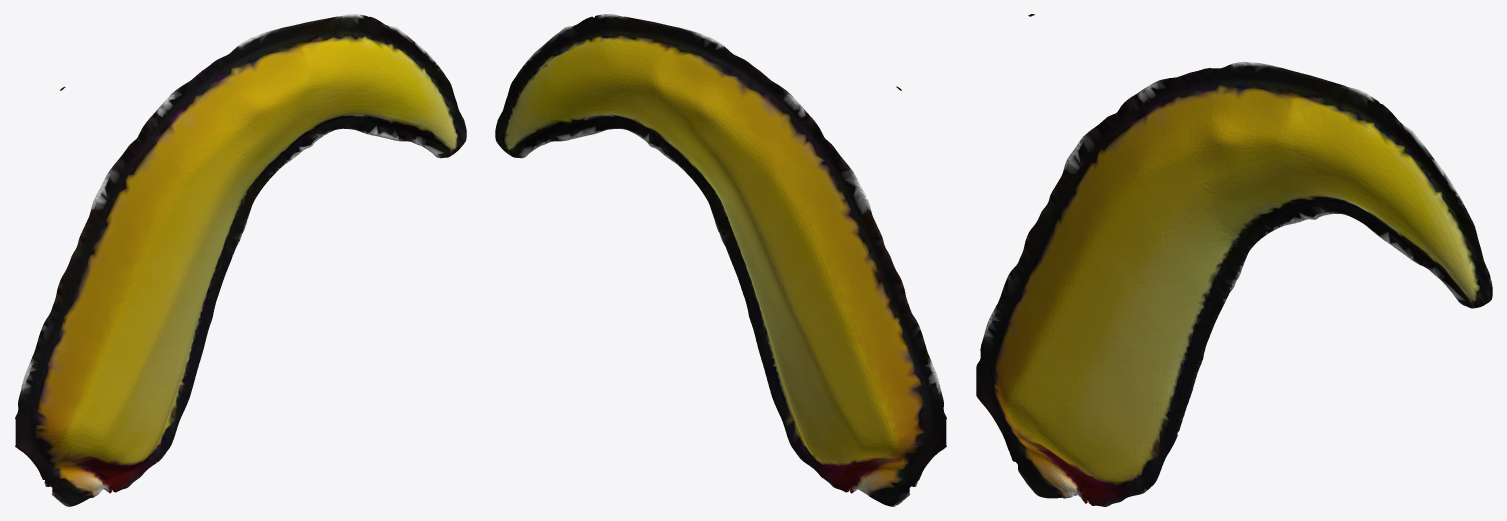
Rendered from demonhorn.glb.
3 views of the same model, side by side, from view 1: azimuth 30°, elevation 25°; view 2: azimuth 150°, elevation 25°; view 3: azimuth 330°, elevation 25° (orthographic). The views are drawn at different scales.
Parts seen in each view (by area): view 1: geometry_0; view 2: geometry_0; view 3: geometry_0.
Part boxes in pixels (x1,y1,x2,y2): geometry_0: [15, 14, 466, 506]; geometry_0: [495, 14, 946, 506]; geometry_0: [976, 14, 1492, 506].
Size of the model in its own units: 0.7603 by 0.6875 by 0.0951.
